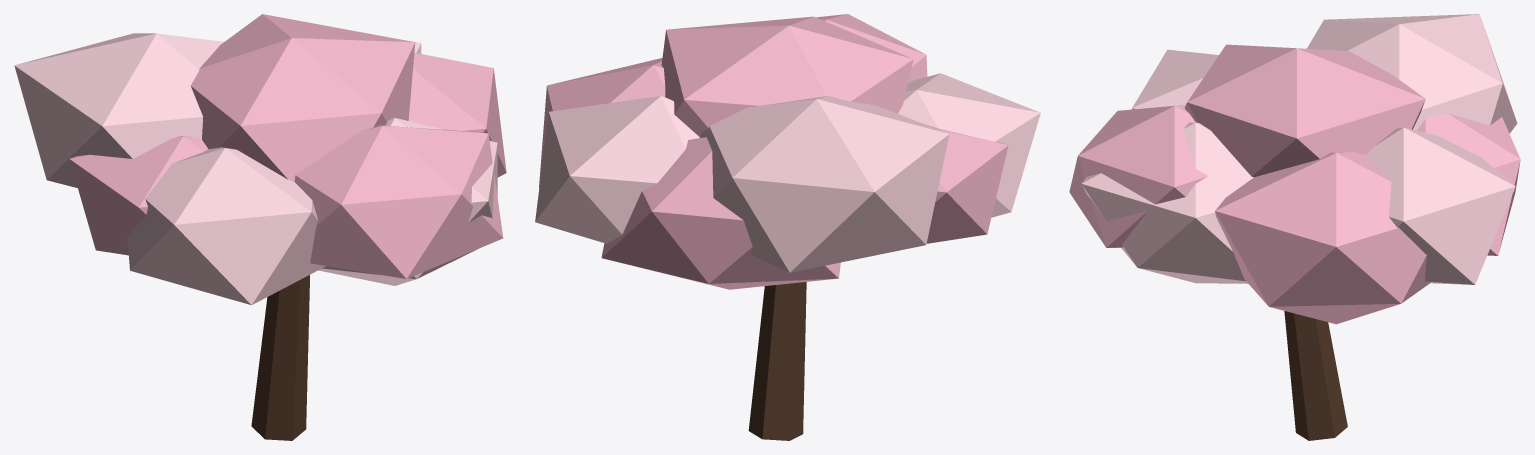
The model's file is Sakura2.fbx.
The picture shows the model from 3 angles, left to right: view 1: azimuth 30°, elevation 25°; view 2: azimuth 150°, elevation 25°; view 3: azimuth 270°, elevation 25°; orthographic projection. The views are drawn at different scales.
Visible parts, largest first — view 1: Sakura2_Roof_sakura, Sakura2_Roof_sakura_lt, Sakura2_bark; view 2: Sakura2_Roof_sakura_lt, Sakura2_Roof_sakura, Sakura2_bark; view 3: Sakura2_Roof_sakura, Sakura2_Roof_sakura_lt, Sakura2_bark.
Boxes of the visible parts, <box> form: Sakura2_Roof_sakura: <box>69,14,506,278</box>; Sakura2_Roof_sakura_lt: <box>14,33,497,305</box>; Sakura2_bark: <box>251,275,309,440</box>; Sakura2_Roof_sakura_lt: <box>535,73,1040,272</box>; Sakura2_Roof_sakura: <box>539,14,1008,289</box>; Sakura2_bark: <box>748,282,806,440</box>; Sakura2_Roof_sakura: <box>1069,44,1520,324</box>; Sakura2_Roof_sakura_lt: <box>1081,14,1517,284</box>; Sakura2_bark: <box>1284,311,1347,440</box>.
Bounding box in the file's own units: 14.15 × 12.95 × 13.77.
